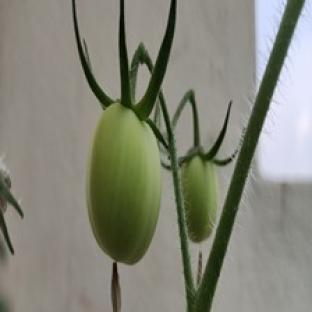Tomato: (87, 104, 161, 264), (182, 155, 218, 242)
